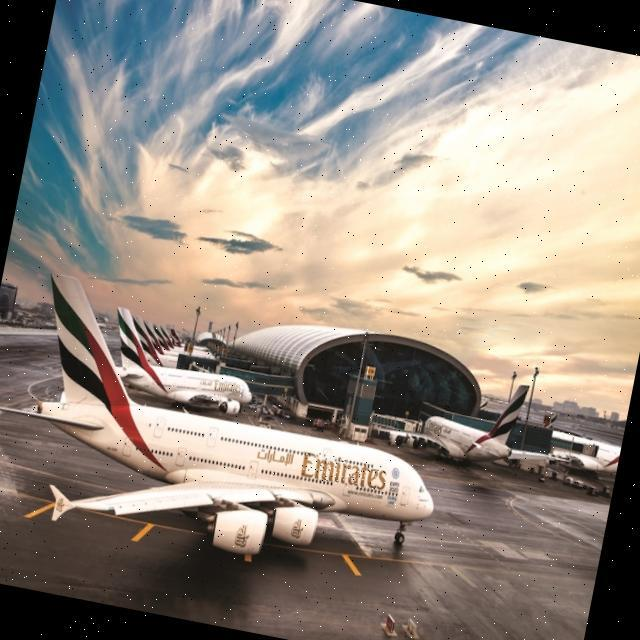Emirates: (300, 451, 389, 493), (214, 379, 242, 395)
